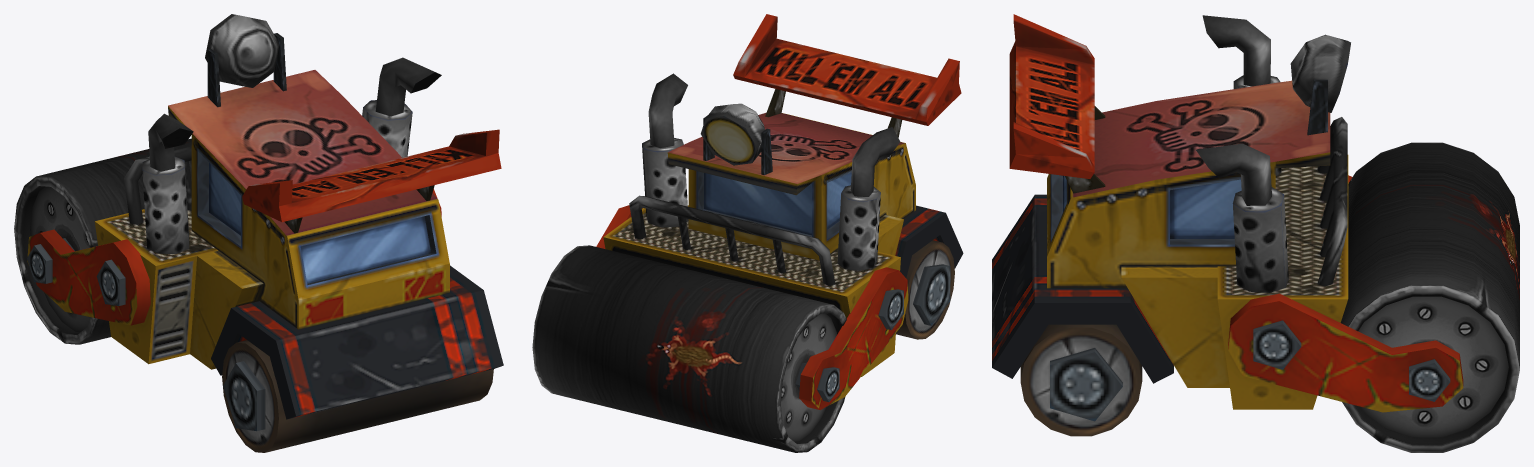
The model's file is prp_bulldozer_01.FBX.
The picture shows the model from 3 angles, left to right: view 1: azimuth 30°, elevation 25°; view 2: azimuth 150°, elevation 25°; view 3: azimuth 270°, elevation 25°; orthographic projection. The views are drawn at different scales.
Parts seen in each view (by area): view 1: prp_bulldozer_01, prp_bulldozer_wheel_01; view 2: prp_bulldozer_01, prp_bulldozer_wheel_01; view 3: prp_bulldozer_01, prp_bulldozer_wheel_01.
Part boxes in pixels (x1=…): prp_bulldozer_01: x1=27, y1=14, x2=503, y2=452; prp_bulldozer_wheel_01: x1=14, y1=138, x2=191, y2=344; prp_bulldozer_01: x1=596, y1=14, x2=963, y2=409; prp_bulldozer_wheel_01: x1=532, y1=245, x2=846, y2=452; prp_bulldozer_01: x1=992, y1=14, x2=1463, y2=436; prp_bulldozer_wheel_01: x1=1340, y1=142, x2=1519, y2=452.
Size of the model in its own units: 2.3 by 2.22 by 3.09.
Materials: 2 (2 with a texture image).
